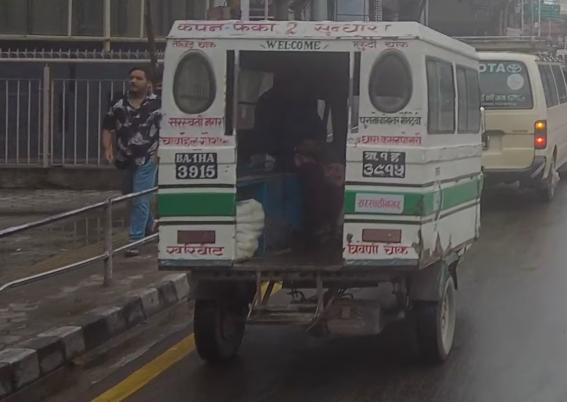micro_bus: (452, 31, 567, 198)
tempo: (152, 9, 495, 376)
